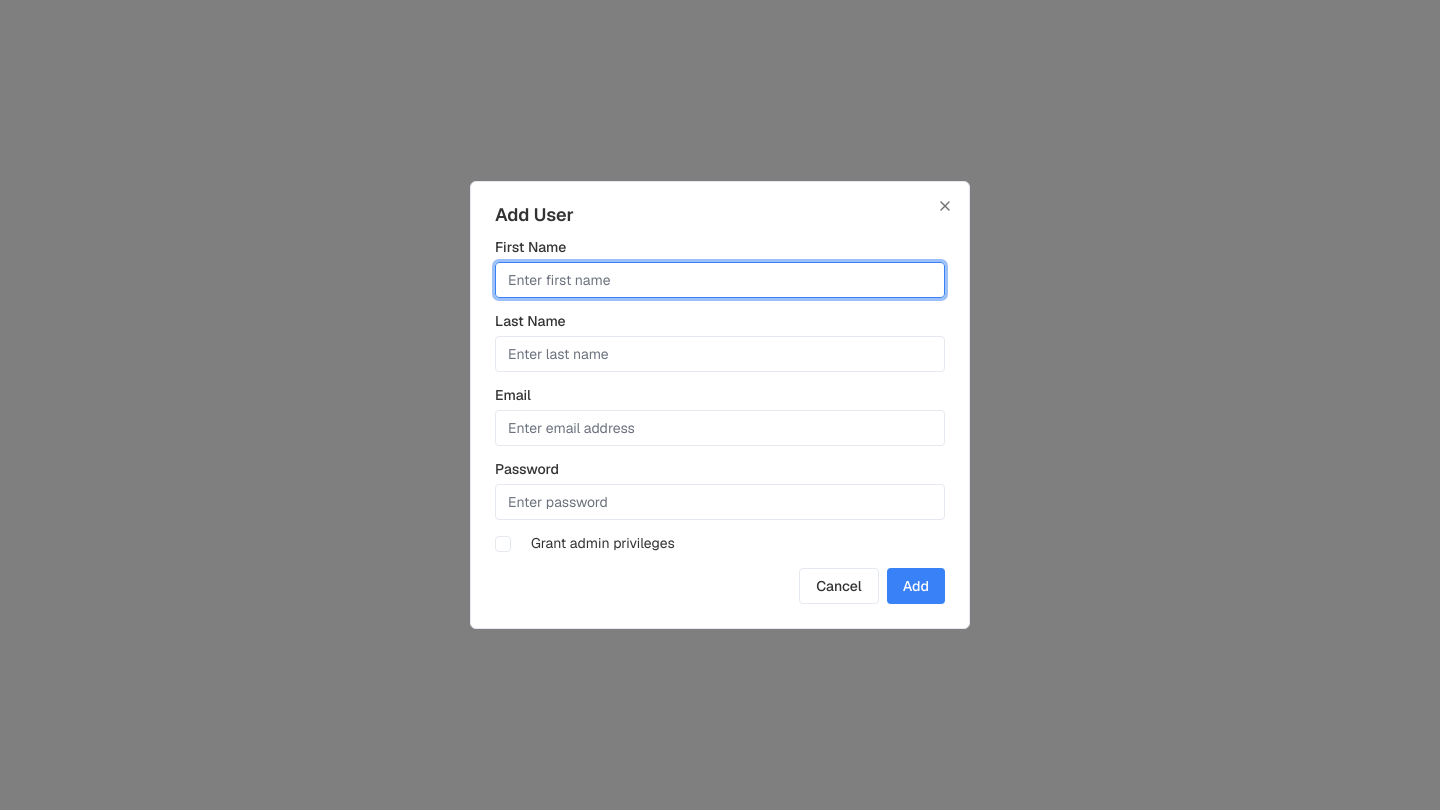
Test: UserFormDialog › should handle form interactions and validation
# Test cancel functionality
Click the button "Cancel" at (839, 586), box [799,568,879,604]
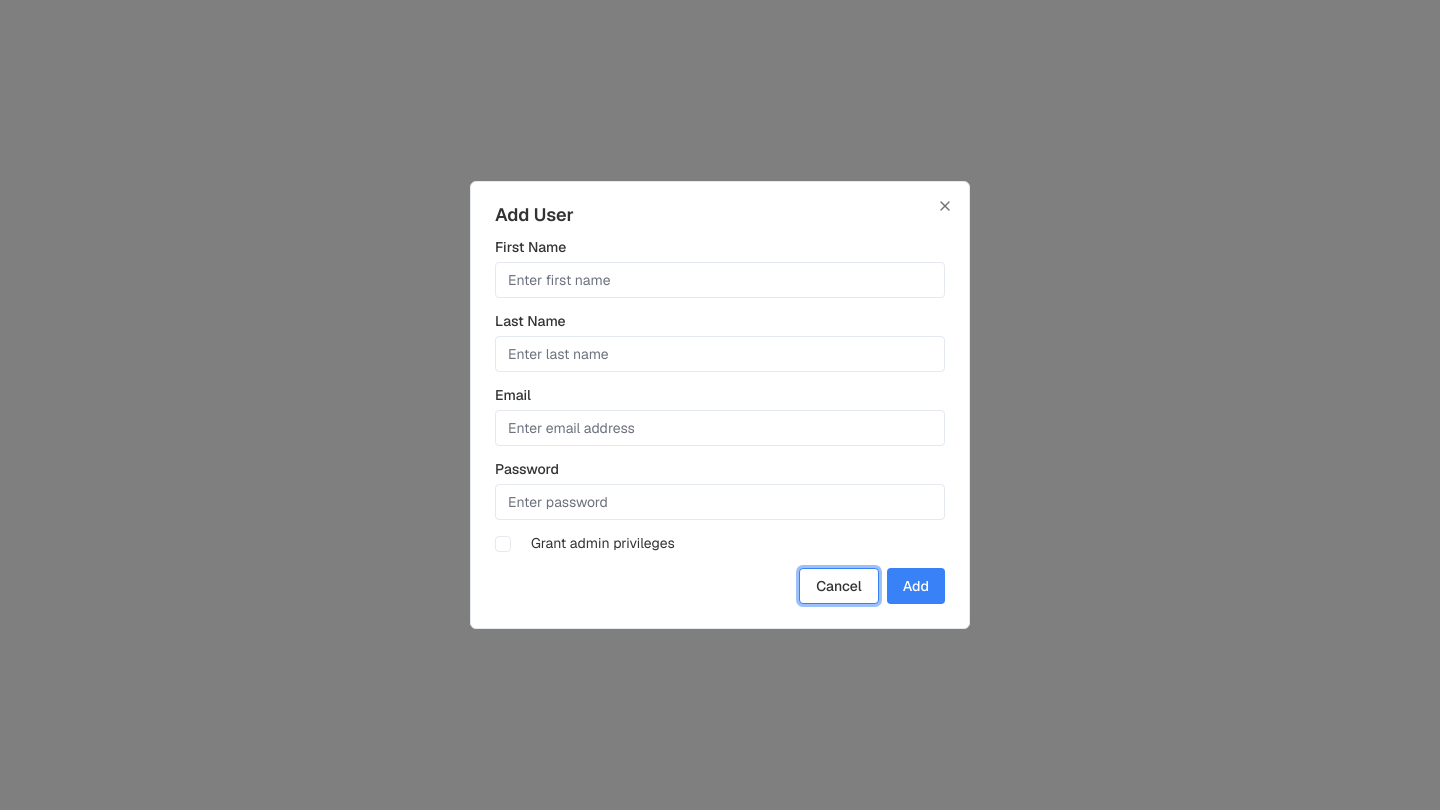
# Test validation errors
Click the button "Add" at (916, 586), box [887,568,945,604]
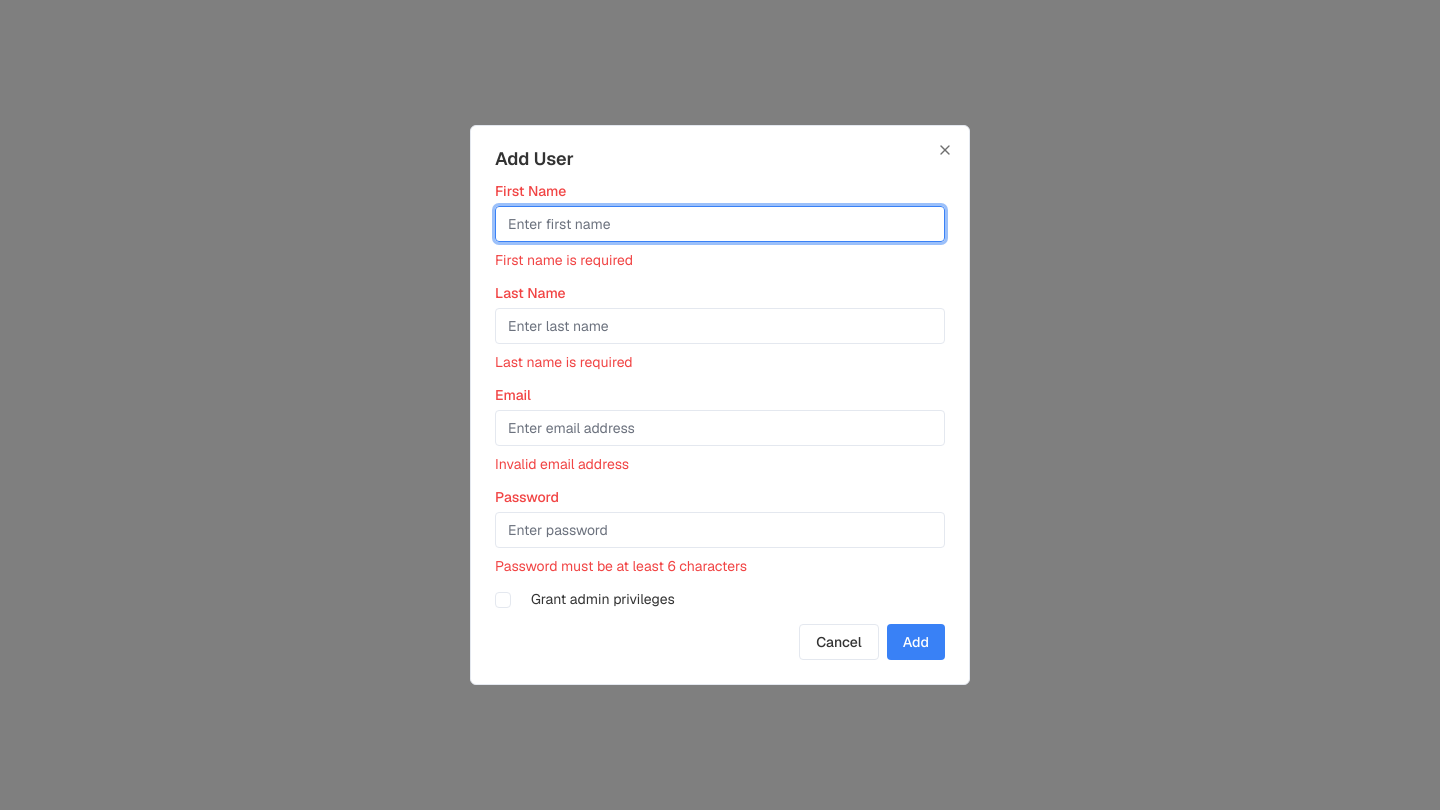
Expected: the text "First name is required" is shown, [495,251,633,269]
Expected: the text "Last name is required" is shown, [495,353,633,371]
Expected: the text "Invalid email address" is shown, [495,455,629,473]
